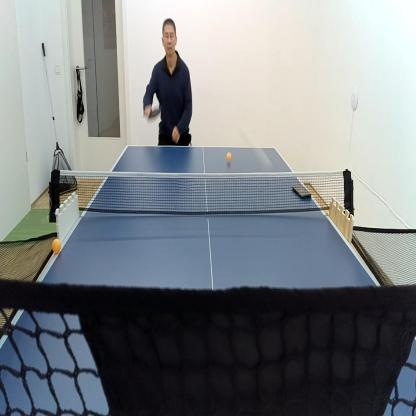Ball: (254, 142, 273, 173), (51, 238, 62, 254), (226, 152, 232, 162)
